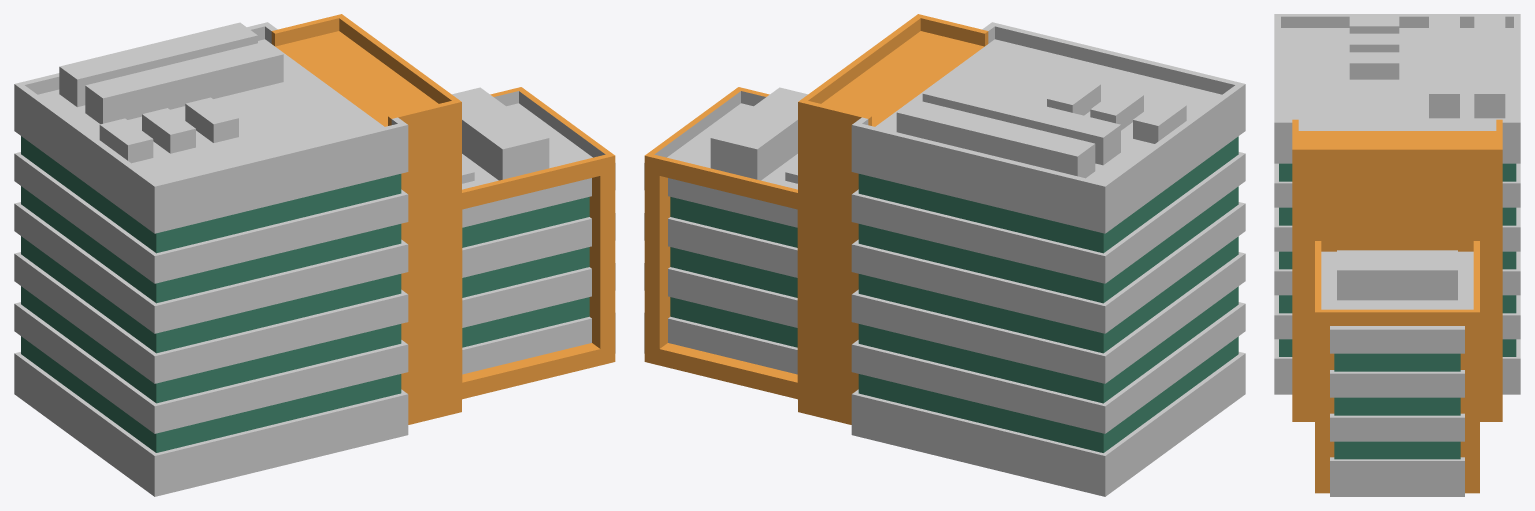
Rendered from Town_Bld-PublicD.FBX.
3 renders of one model, left to right at view 1: azimuth 30°, elevation 25°; view 2: azimuth 150°, elevation 25°; view 3: azimuth 270°, elevation 25°, orthographic. The views are drawn at different scales.
Parts seen in each view (by area): view 1: Town_Bld-PublicD; view 2: Town_Bld-PublicD; view 3: Town_Bld-PublicD.
Boxes of the visible parts, bbox=[...] form: Town_Bld-PublicD: bbox=[14, 14, 615, 496]; Town_Bld-PublicD: bbox=[644, 14, 1245, 496]; Town_Bld-PublicD: bbox=[1274, 14, 1520, 496].
Size of the model in its own units: 1834 by 1157 by 905.
